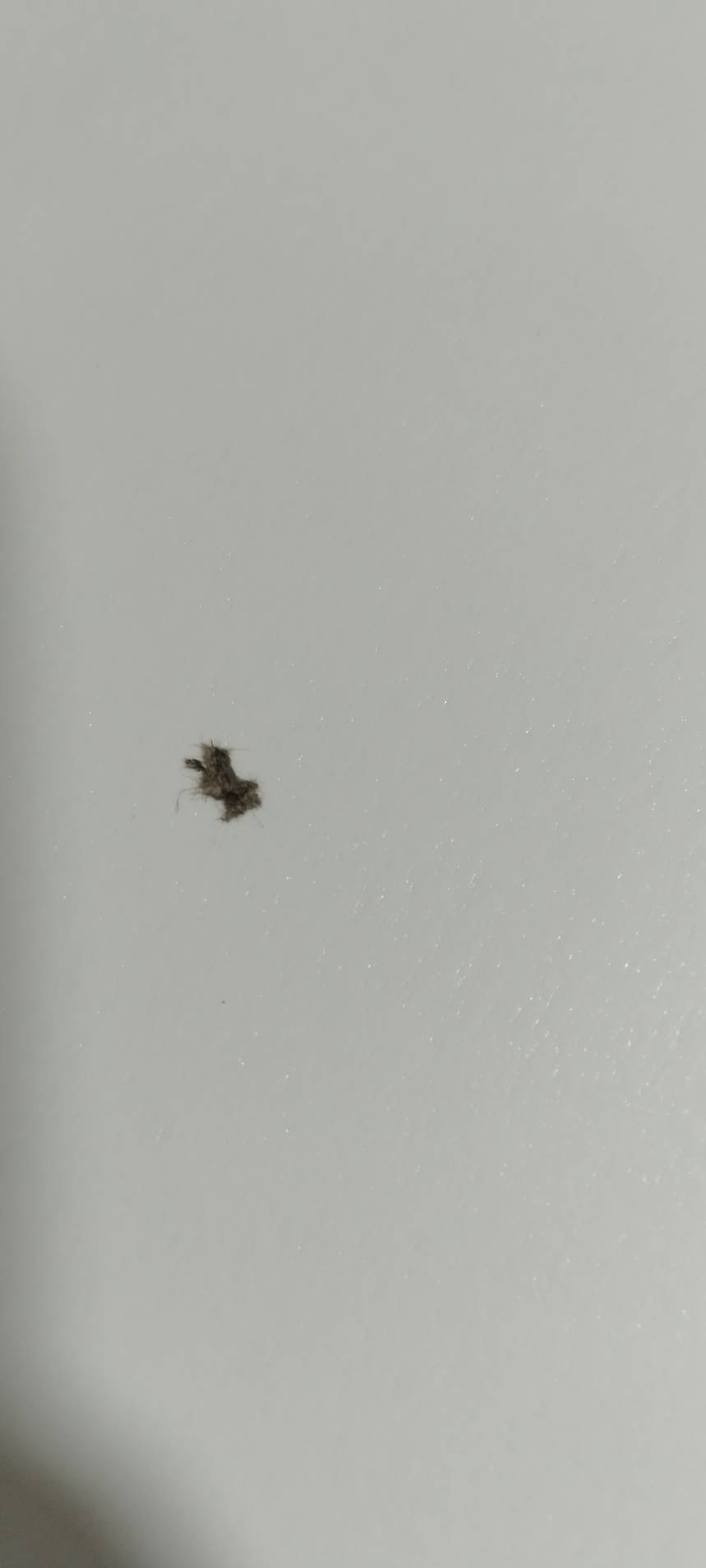contaminate: (168, 731, 275, 835)
